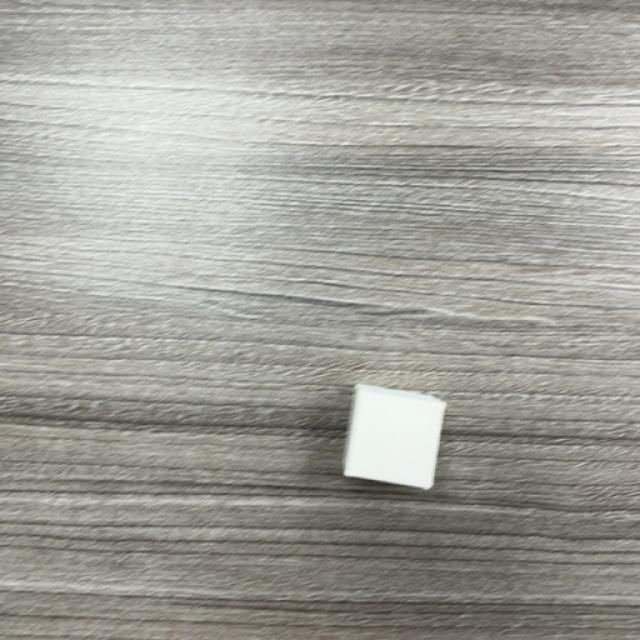Blanco: (342, 384, 448, 492)
